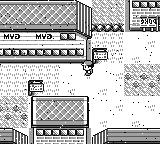leer: (92, 48, 108, 63), (28, 80, 43, 95)
main: (81, 61, 94, 76)
no-caminable: (1, 0, 92, 63), (31, 96, 89, 143), (92, 128, 160, 143), (129, 0, 160, 31), (1, 128, 28, 143)
puerta: (157, 15, 160, 32)
salto: (92, 24, 124, 32)
